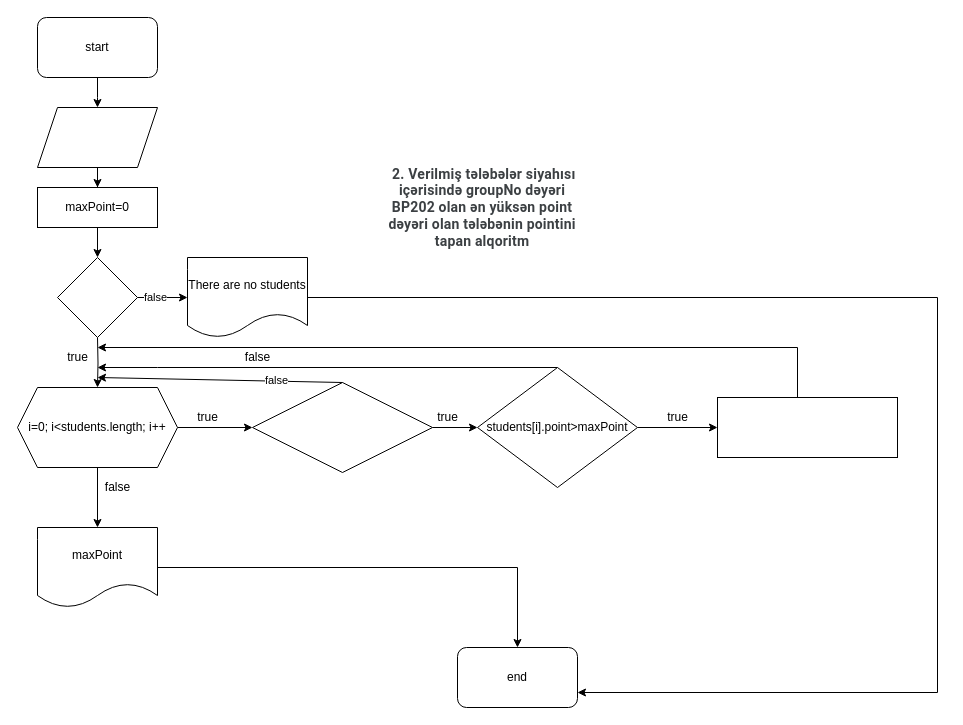
This 963x725 diagram has some shape labels left out. The centre of each missing label's shape, as x and y in pixels:
maxPoint=students[i].point: point (807, 427)
students maxPoint: point (97, 137)
students!=0: point (97, 297)
students[i].grupNo=="BP202": point (342, 427)
